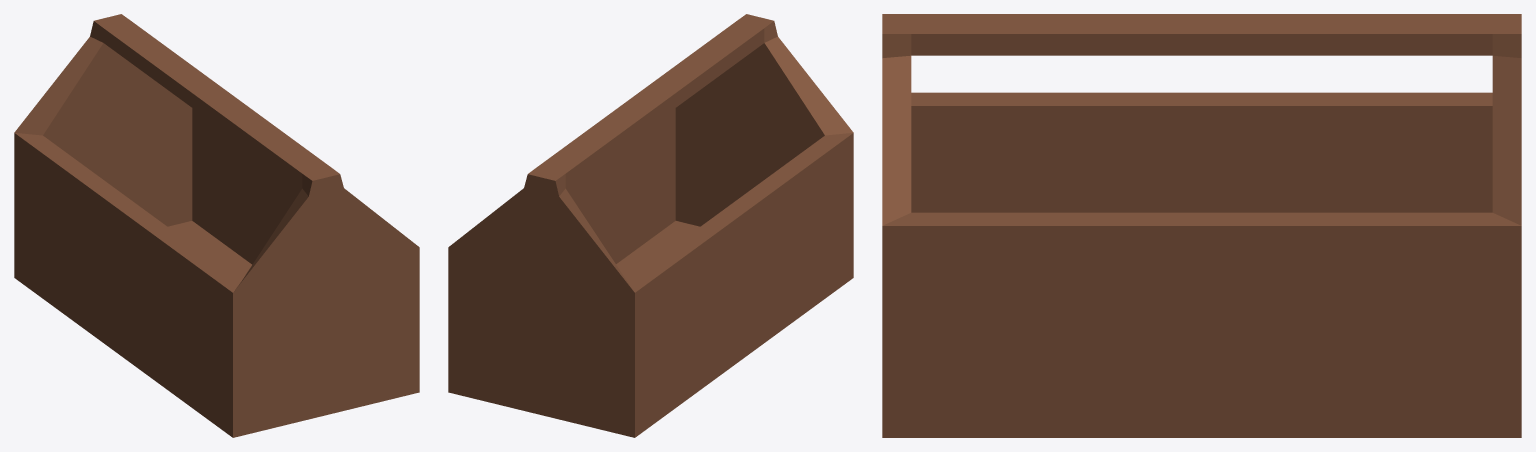
The model's file is tool_box.fbx.
3 views of the same model, side by side, from view 1: azimuth 30°, elevation 25°; view 2: azimuth 150°, elevation 25°; view 3: azimuth 270°, elevation 25° (orthographic). The views are drawn at different scales.
Visible parts, largest first — view 1: tool_box; view 2: tool_box; view 3: tool_box.
Part boxes in pixels (x1=…): tool_box: x1=14, y1=14, x2=419, y2=437; tool_box: x1=448, y1=14, x2=853, y2=437; tool_box: x1=882, y1=14, x2=1521, y2=437.
Size of the model in its own units: 19.72 by 24 by 40.04.
